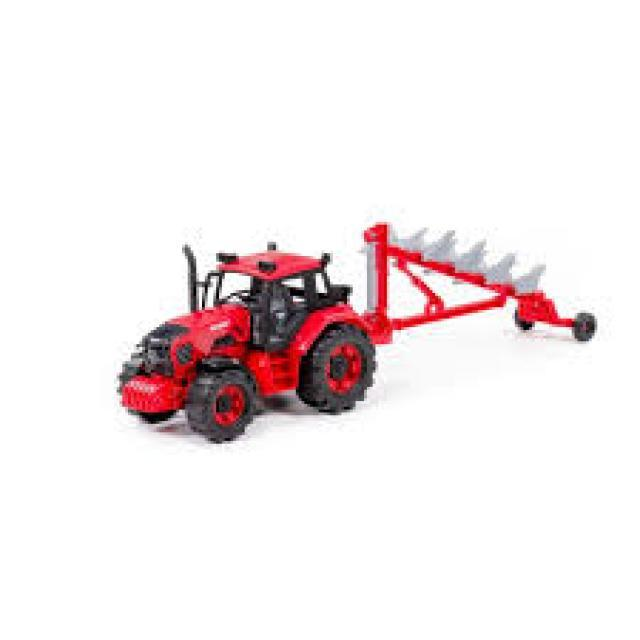Tratores - v5 YOLO V8L 2024-11-13: (118, 245, 377, 442)
